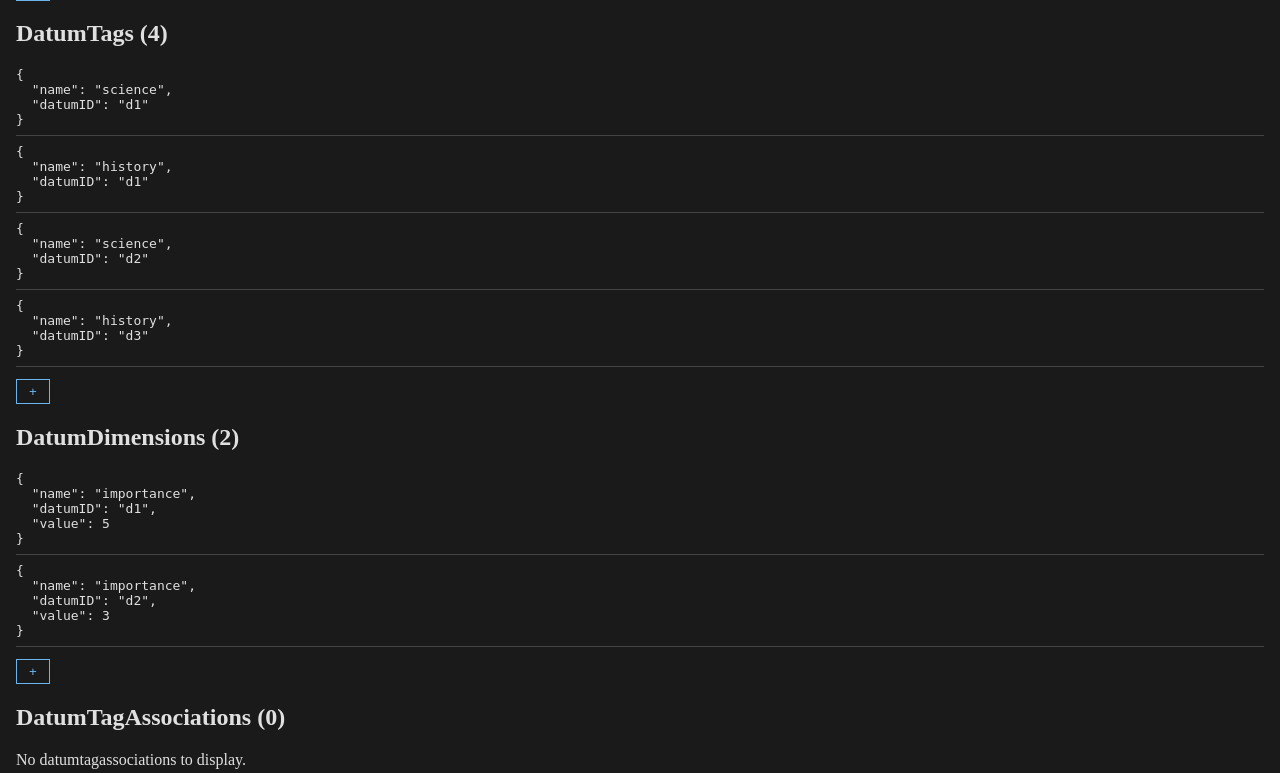
Test: BasicJsonView › shows add form when + button is clicked and adds item on save
(page scrolled)
Step 1. Click the button with test id "add-datumtags-button" → (33, 392), box [16,379,50,404]
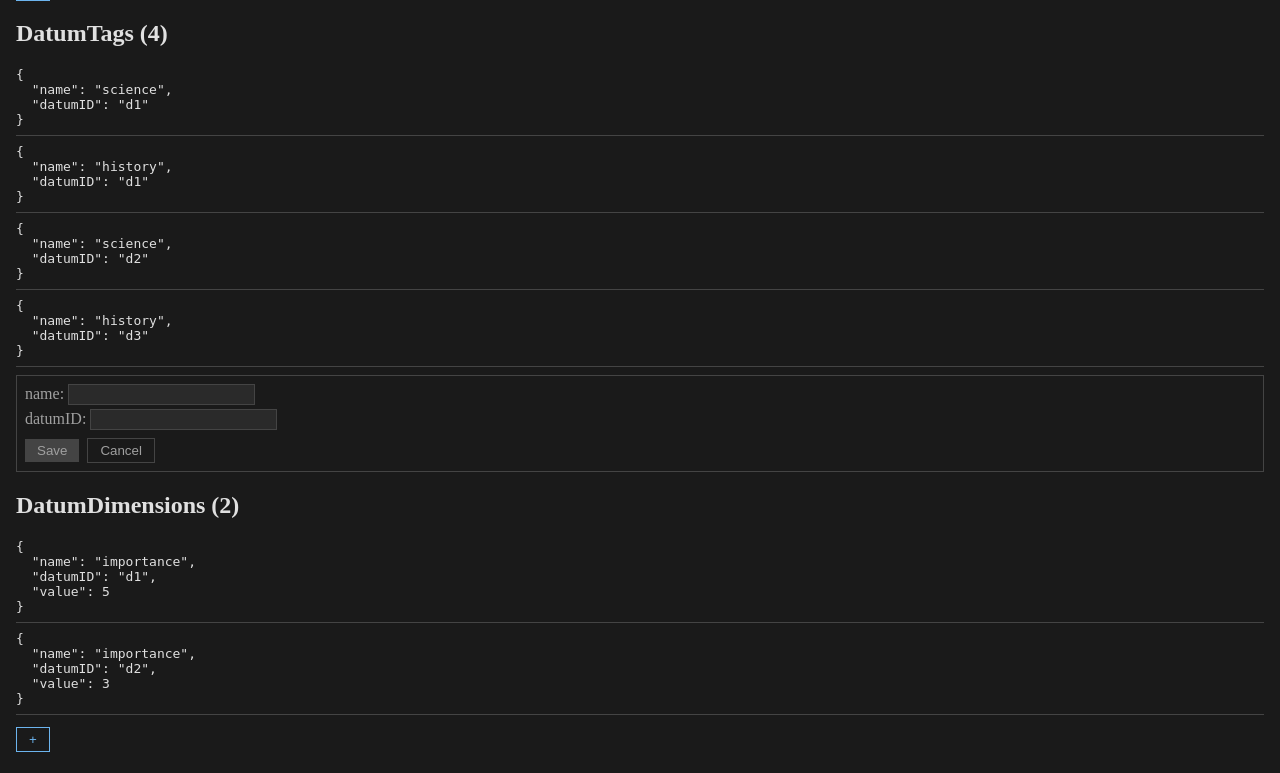
Check: the element with test id "add-element-form" is shown, box [16,375,1264,472]
Step 2. Type "newTag" into the field with test id "input-name" → (162, 395), box [68,384,255,405]
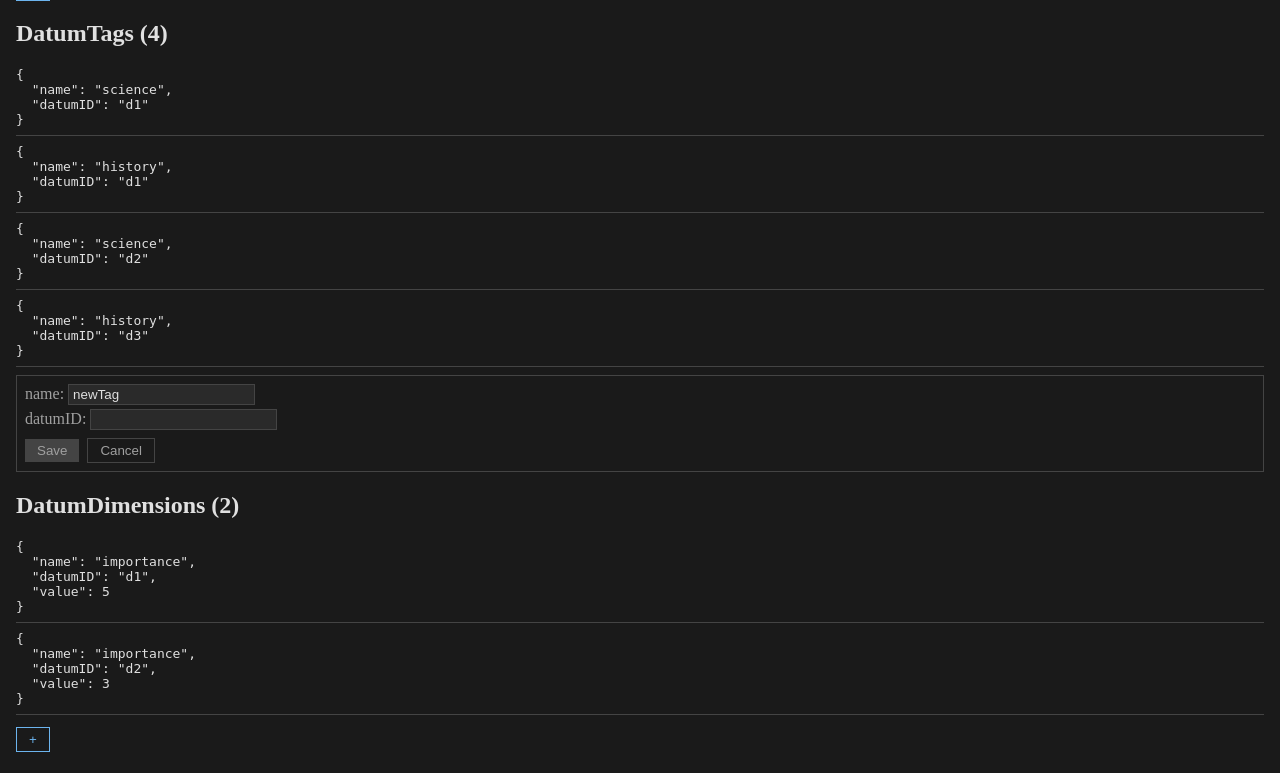
Step 3. Type "d1" into the field with test id "input-datumID" → (184, 420), box [90,409,277,430]
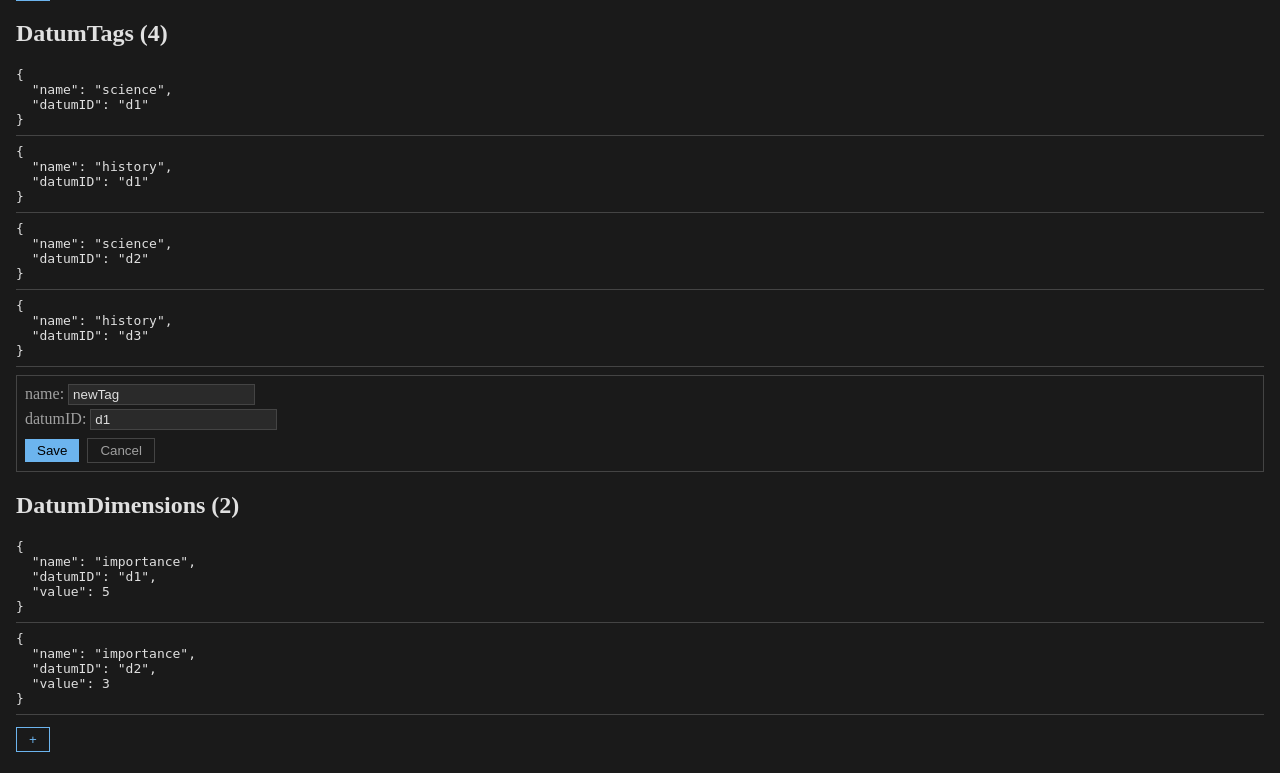
Step 4. Click the button with test id "save-button" → (52, 451), box [25,439,79,462]
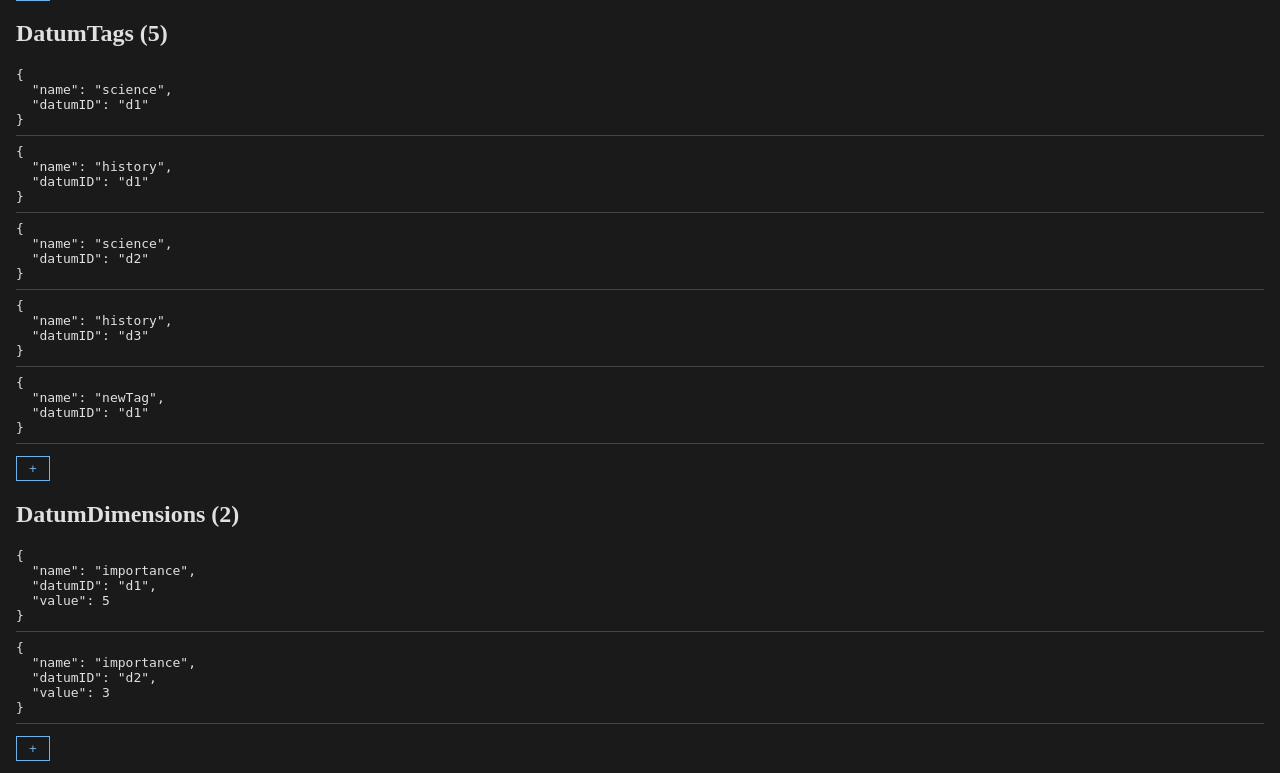
Check: the heading "DatumTags (5)" is shown, box [16,20,168,46]
